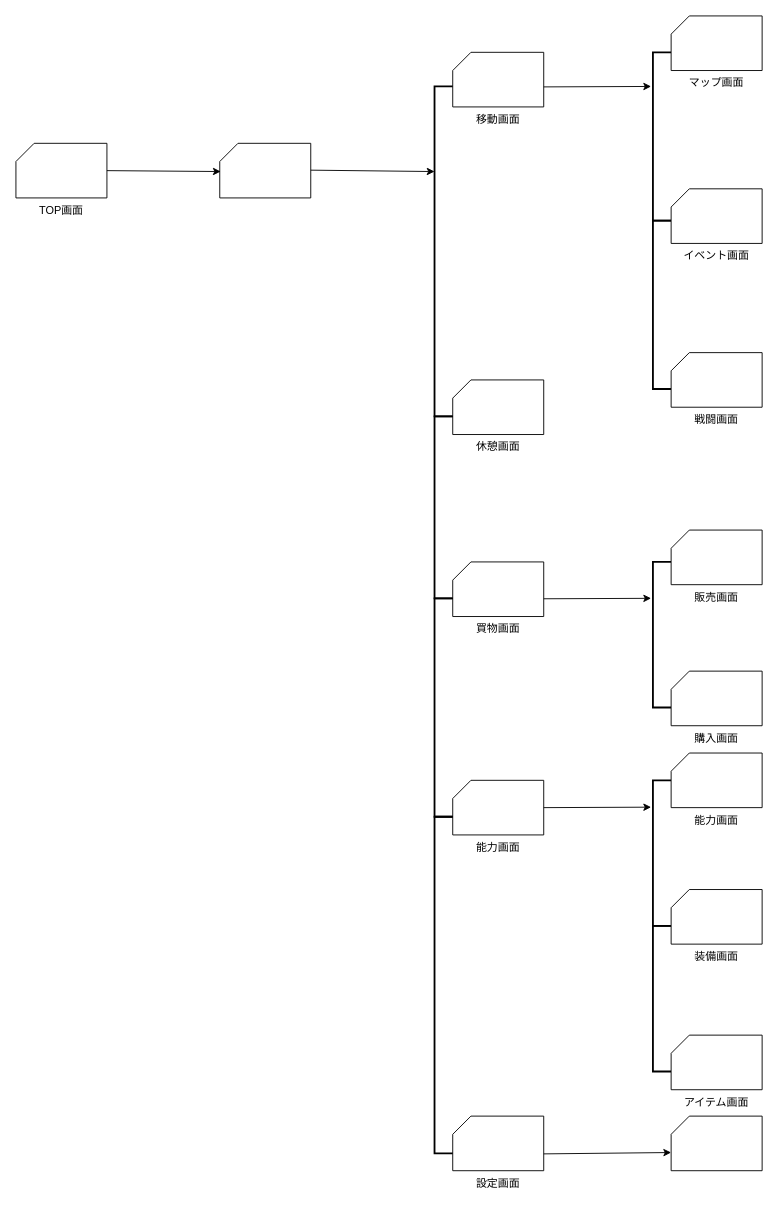
The diagram is 778 pixels wide and 1206 high, and some of its shapes have lost their labels. The shapes that lost their labels are listed below. From the top down, each one's box as (x1, y1, x2, y2) in pixels, then its label:
(219, 142, 311, 198): ゲームTOP画面
(670, 1115, 762, 1171): 保存画面
